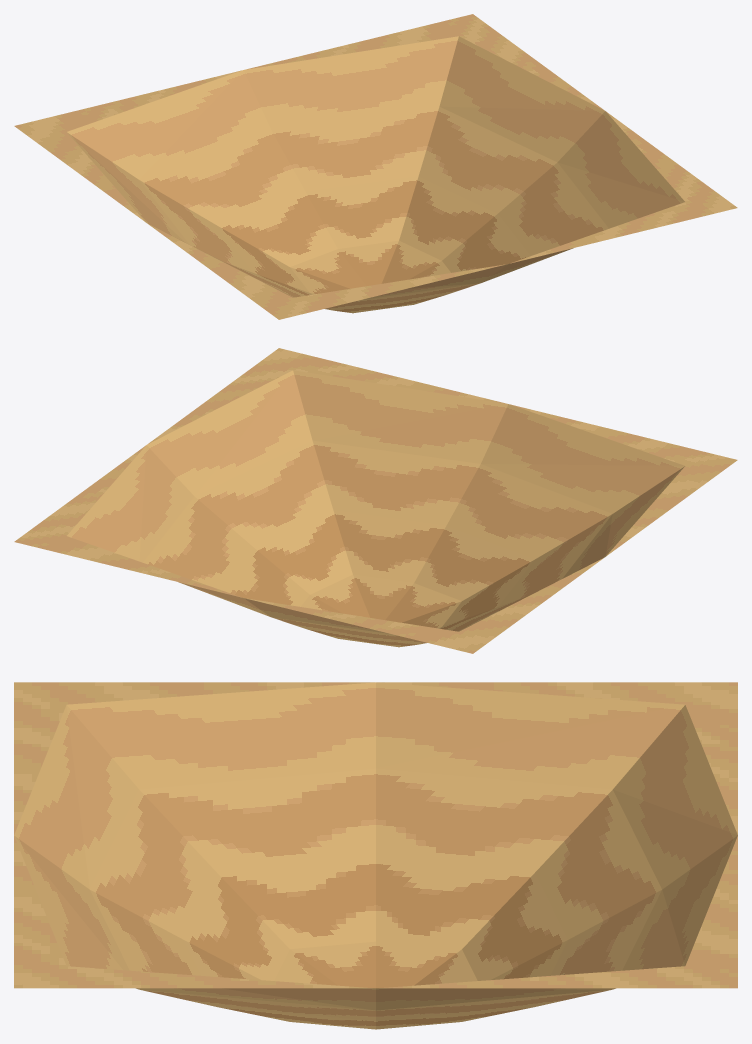
3 views of the same model, one above another, from view 1: azimuth 30°, elevation 25°; view 2: azimuth 150°, elevation 25°; view 3: azimuth 270°, elevation 25° (orthographic). The views are drawn at different scales.
Parts seen in each view (by area): view 1: polygon0, polygon1, polygon2, polygon3; view 2: polygon0, polygon1, polygon2, polygon3; view 3: polygon0, polygon1, polygon2, polygon3.
Boxes of the visible parts, <box> form: polygon0: <box>67,36,684,299</box>; polygon1: <box>139,106,608,310</box>; polygon2: <box>217,176,530,313</box>; polygon3: <box>14,14,737,319</box>; polygon0: <box>67,370,684,633</box>; polygon1: <box>143,440,612,644</box>; polygon2: <box>221,510,534,647</box>; polygon3: <box>14,348,737,653</box>; polygon0: <box>14,682,737,1010</box>; polygon1: <box>90,768,661,1020</box>; polygon2: <box>184,858,567,1029</box>; polygon3: <box>14,682,737,988</box>.
Size of the model in its own units: 10 by 2.73 by 10.
Materials: 4 (4 with a texture image).
